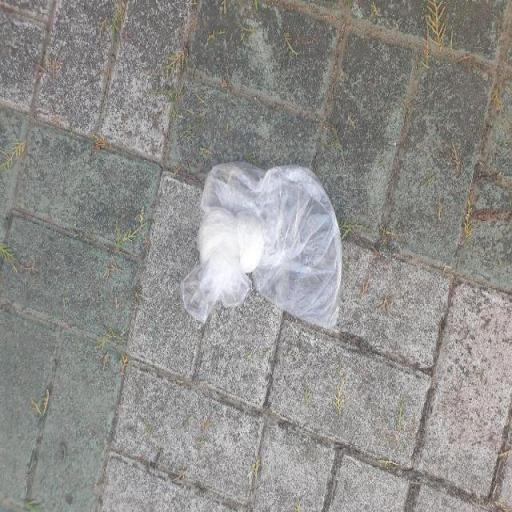plastic-bag: (181, 152, 345, 333)
